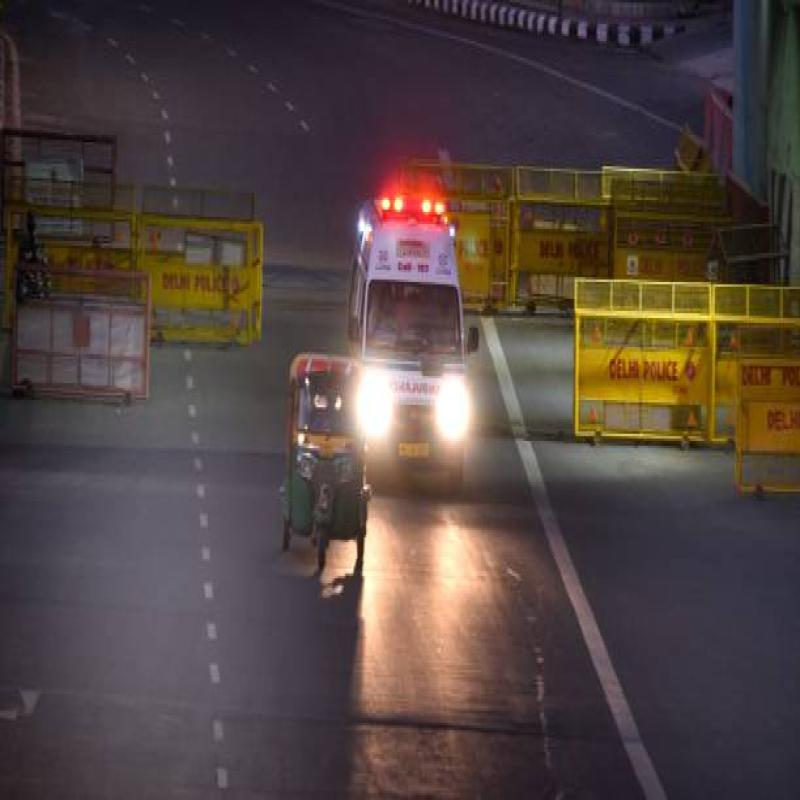ambulance: (339, 167, 486, 479)
